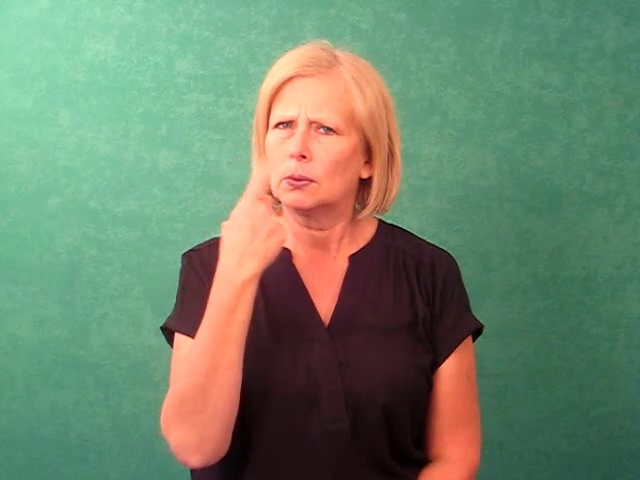who: (201, 151, 314, 279)
